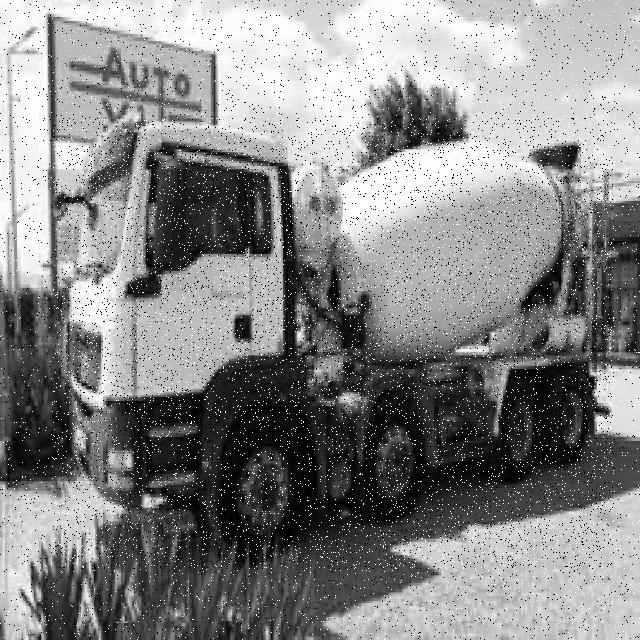Concrete Mixer: (52, 118, 614, 569)
